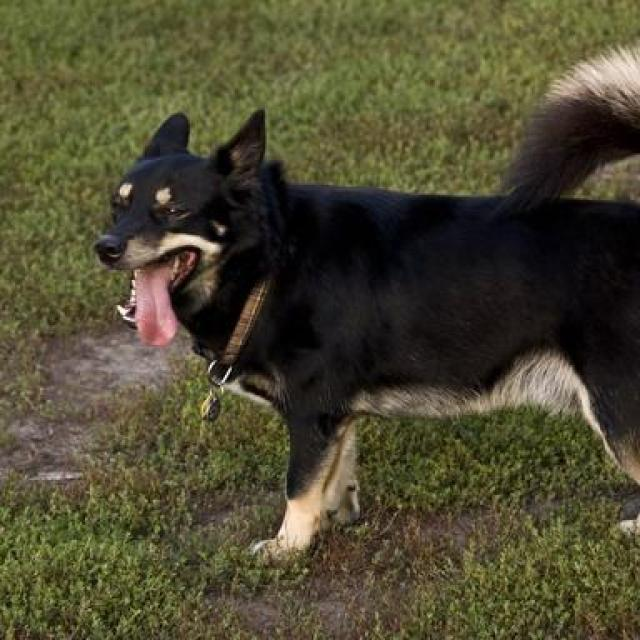happy: (100, 37, 640, 578)
